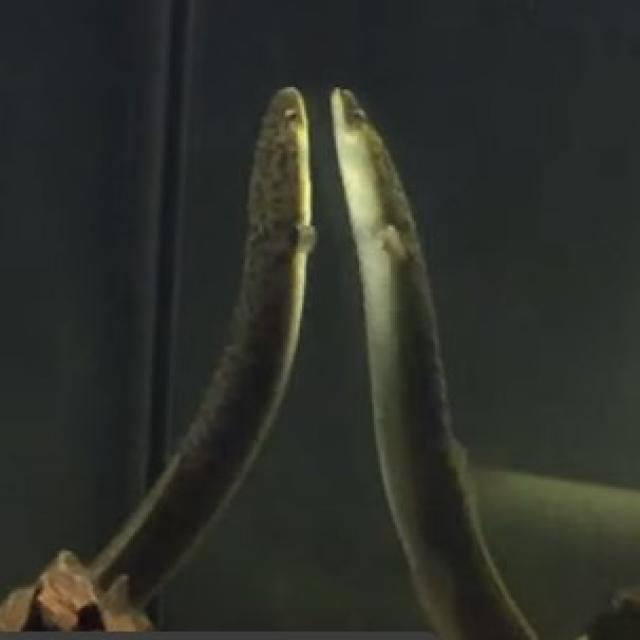Freshwater-Eel: (177, 27, 637, 640)
